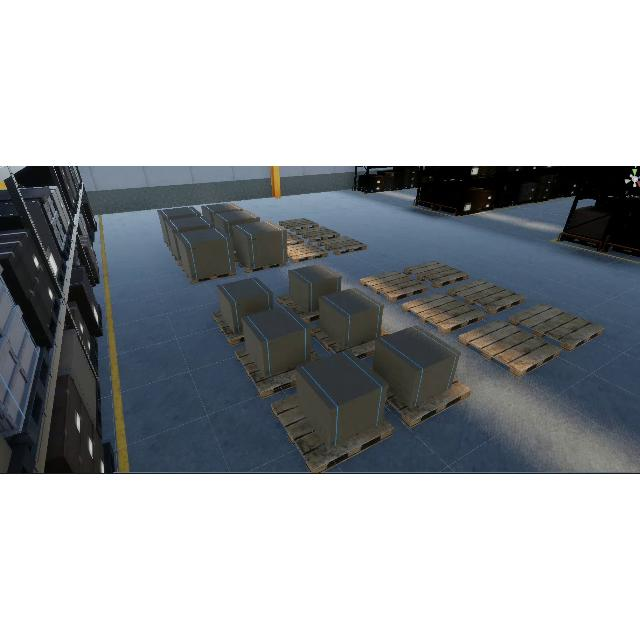wooden_pallet: (270, 394, 394, 473), (457, 319, 562, 378), (508, 302, 605, 352), (384, 376, 471, 429), (402, 292, 485, 335), (446, 279, 527, 316), (359, 270, 429, 303), (403, 260, 470, 289), (316, 236, 367, 255), (295, 226, 340, 242)
